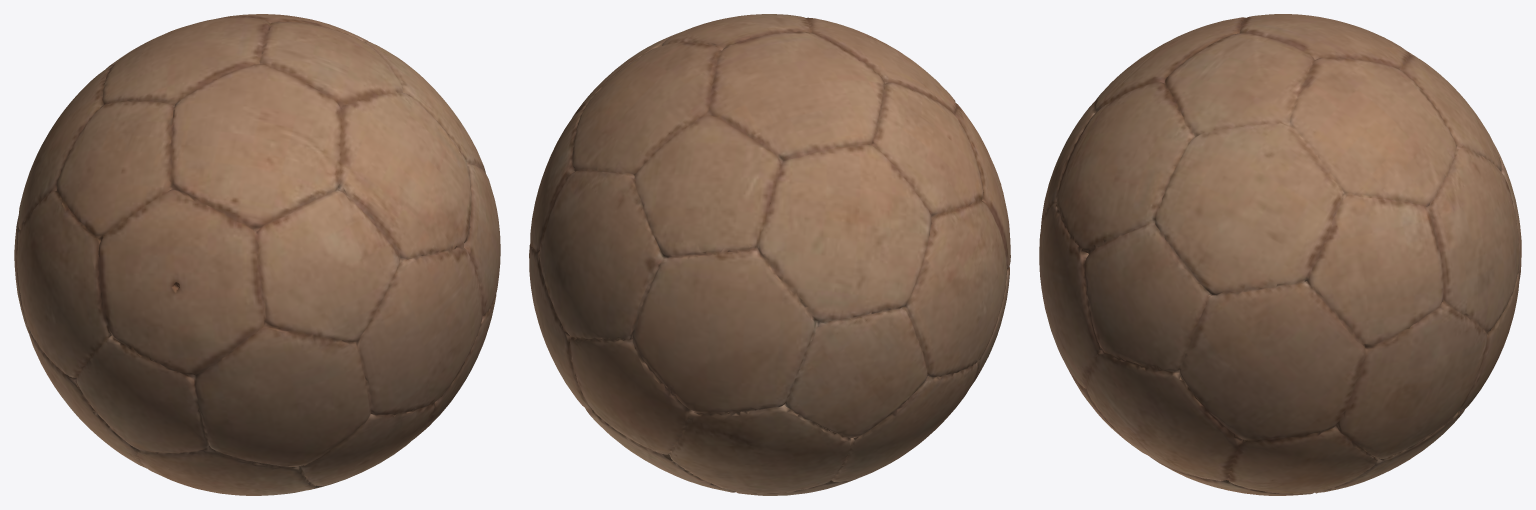
The model's file is dirty_football.glb.
The picture shows the model from 3 angles, left to right: view 1: azimuth 30°, elevation 25°; view 2: azimuth 150°, elevation 25°; view 3: azimuth 270°, elevation 25°; orthographic projection.
Visible parts, largest first — view 1: dirty_football; view 2: dirty_football; view 3: dirty_football.
Boxes of the visible parts, x1,y1,x2,y2 form: dirty_football: (14, 14, 500, 495); dirty_football: (529, 14, 1010, 495); dirty_football: (1039, 14, 1521, 495).
Bounding box in the file's own units: 0.2214 × 0.22 × 0.22.
1 material, 1 textured.
